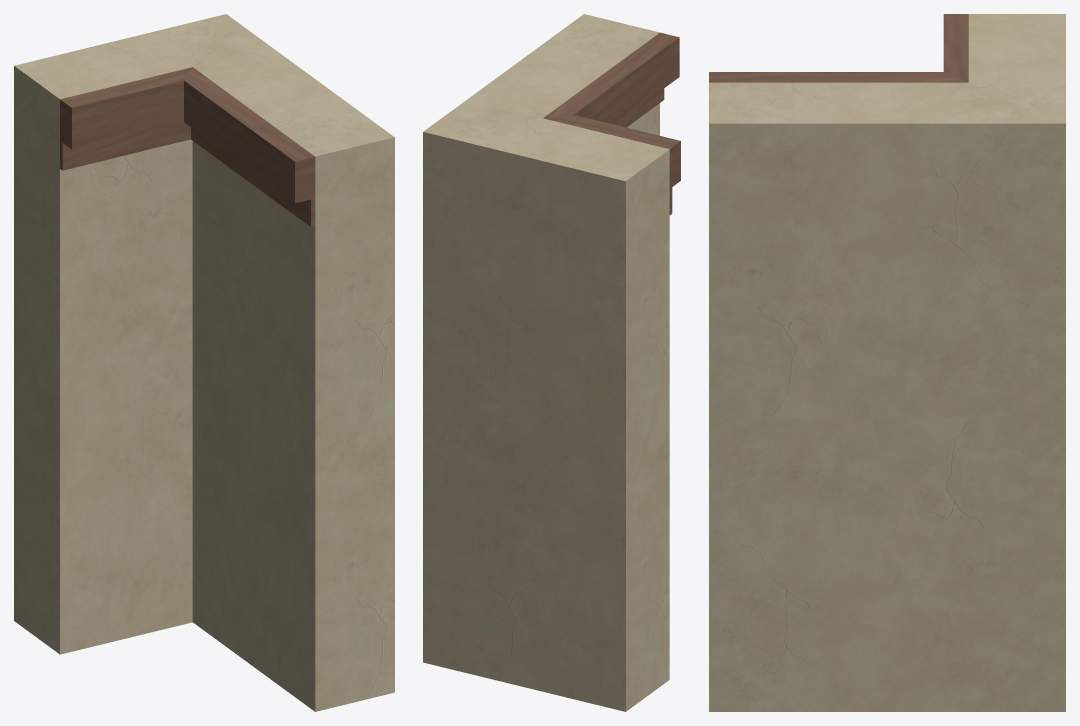
File: RightCornerWall.glb
3 views of the same model, side by side, from view 1: azimuth 30°, elevation 25°; view 2: azimuth 150°, elevation 25°; view 3: azimuth 270°, elevation 25° (orthographic). The views are drawn at different scales.
Parts seen in each view (by area): view 1: Right Corner Wall; view 2: Right Corner Wall; view 3: Right Corner Wall.
Boxes of the visible parts, x1,y1,x2,y2 form: Right Corner Wall: [14, 14, 394, 711]; Right Corner Wall: [423, 14, 680, 711]; Right Corner Wall: [709, 14, 1065, 711].
Size of the model in its own units: 1.6 by 4 by 2.2.
Materials: 1 (1 with a texture image).
